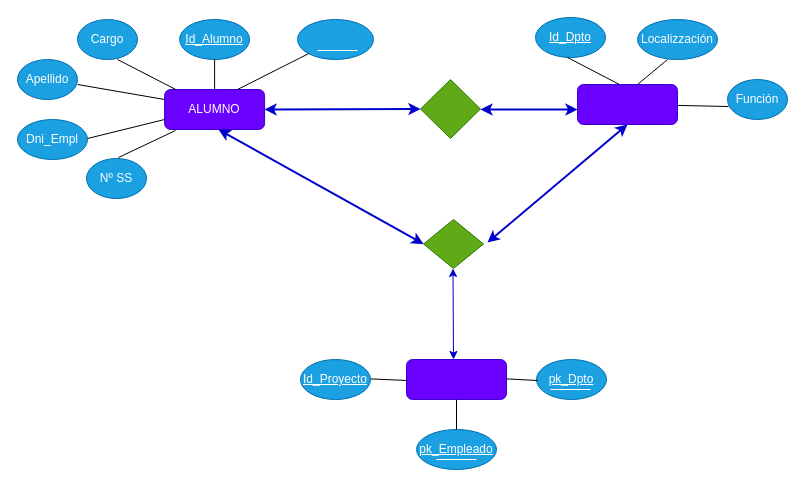
This 805x487 diagram has some shape labels left out. The shapes that lost their labels are listed below. From the top down, each one's box as (x1, y1, x2, y2) in pixels, then its label:
(296, 18, 374, 60): pk_Asignatura
(420, 78, 480, 138): Estudia
(576, 84, 678, 124): ASIGNATURA
(422, 218, 484, 268): Enseña
(406, 358, 506, 400): PROFESOR
